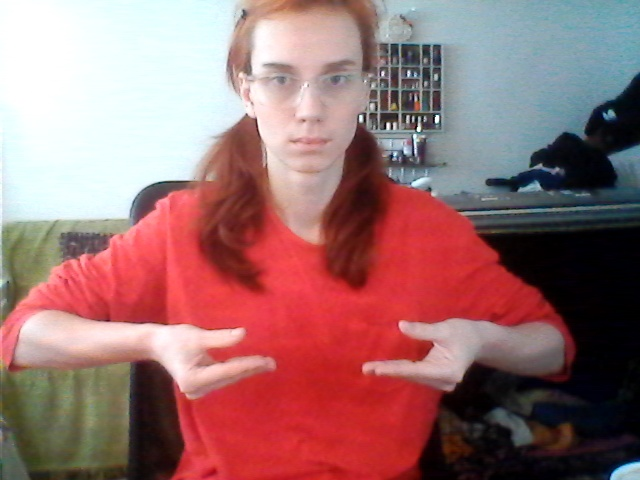drzat: (164, 309, 471, 398)
